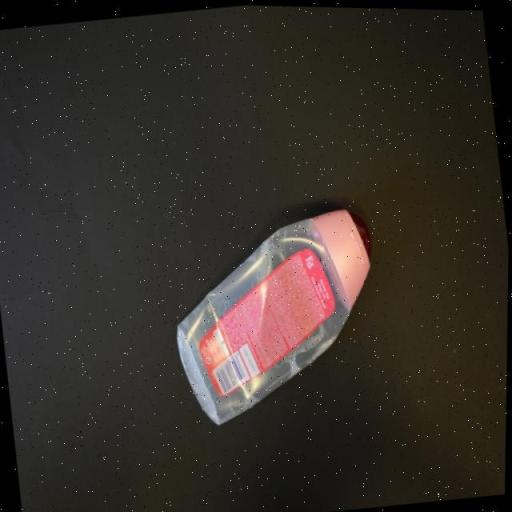plastic: (162, 196, 392, 430)
